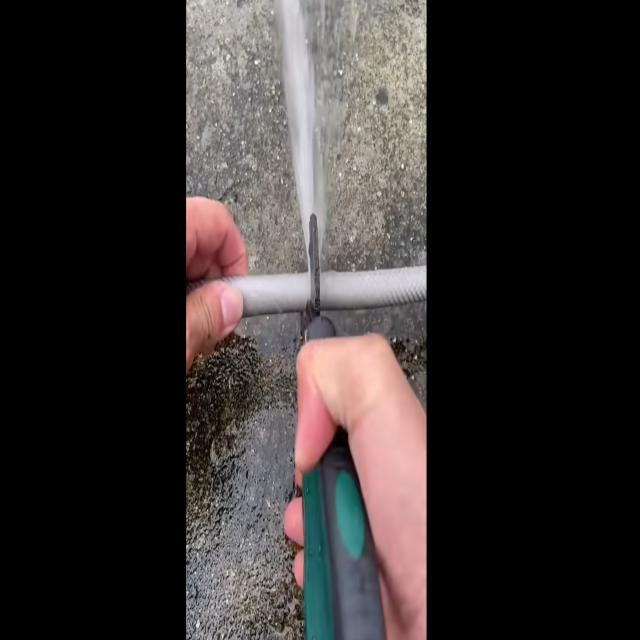leak: (275, 0, 366, 275)
